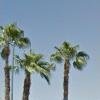Tree: (5, 17, 79, 81)
